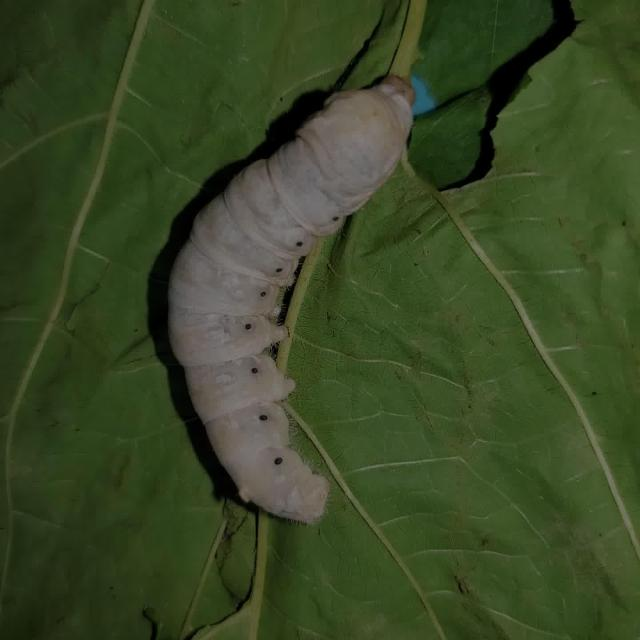Grasserie: (140, 45, 493, 555)
